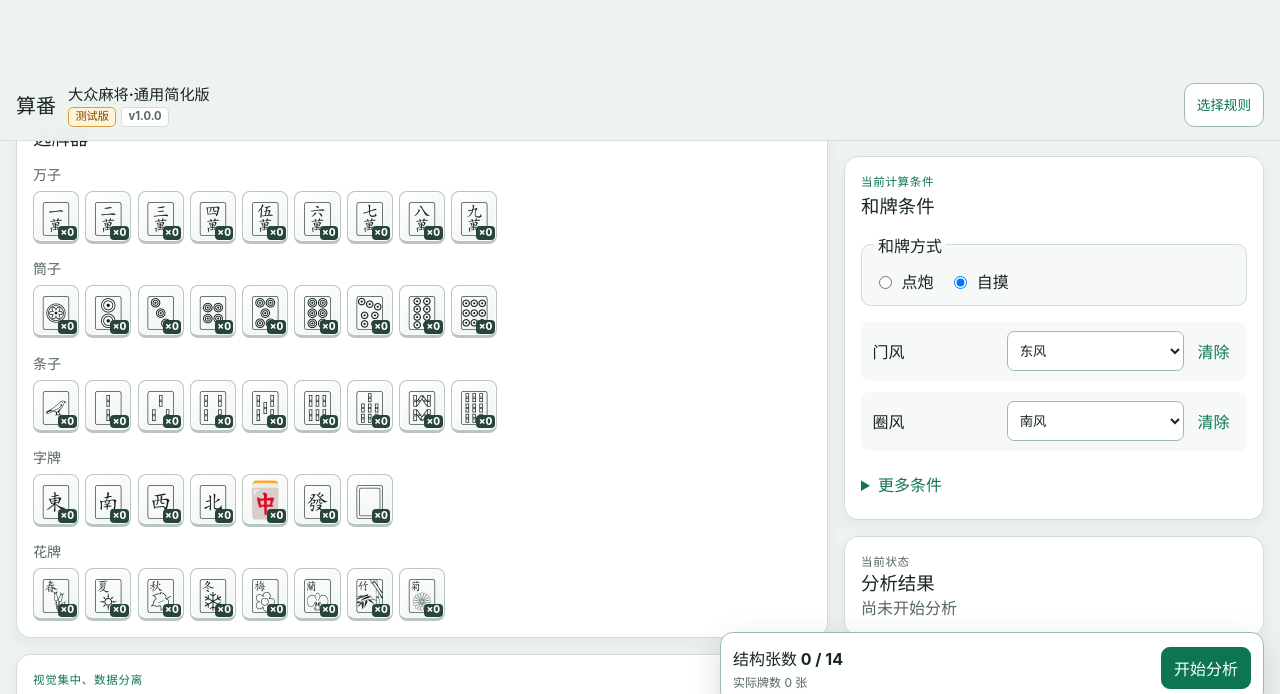
CalculatorPage Batch 13 interaction › renders RulePackage contexts, reports missing fields, and restores cleared mode data
Expected: the radio button labelled "自摸" is checked, [954,276,967,289]
Click the heading "更多条件" at (910, 485), box [878,475,942,495]
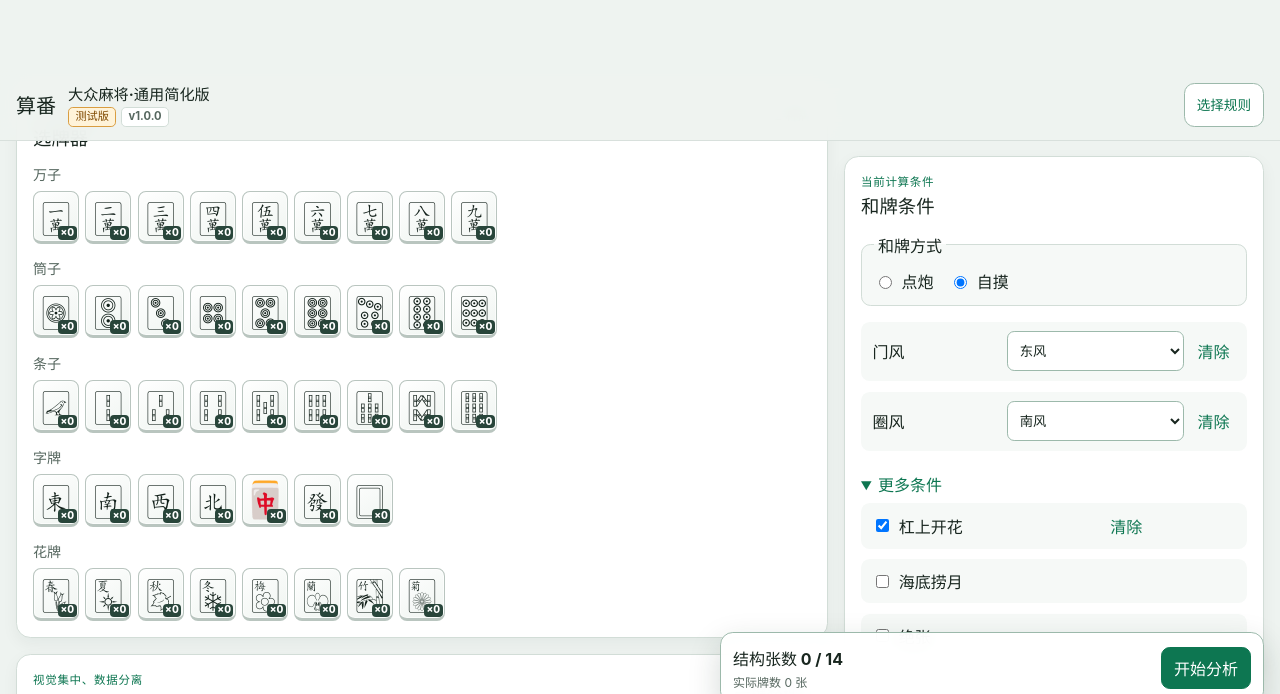
Expected: the checkbox labelled "抢杠和" is not shown
Expected: the checkbox labelled "杠上开花" is checked, [876,519,889,532]
Click the radio button labelled "点炮" at (886, 282), box [879,276,892,289]
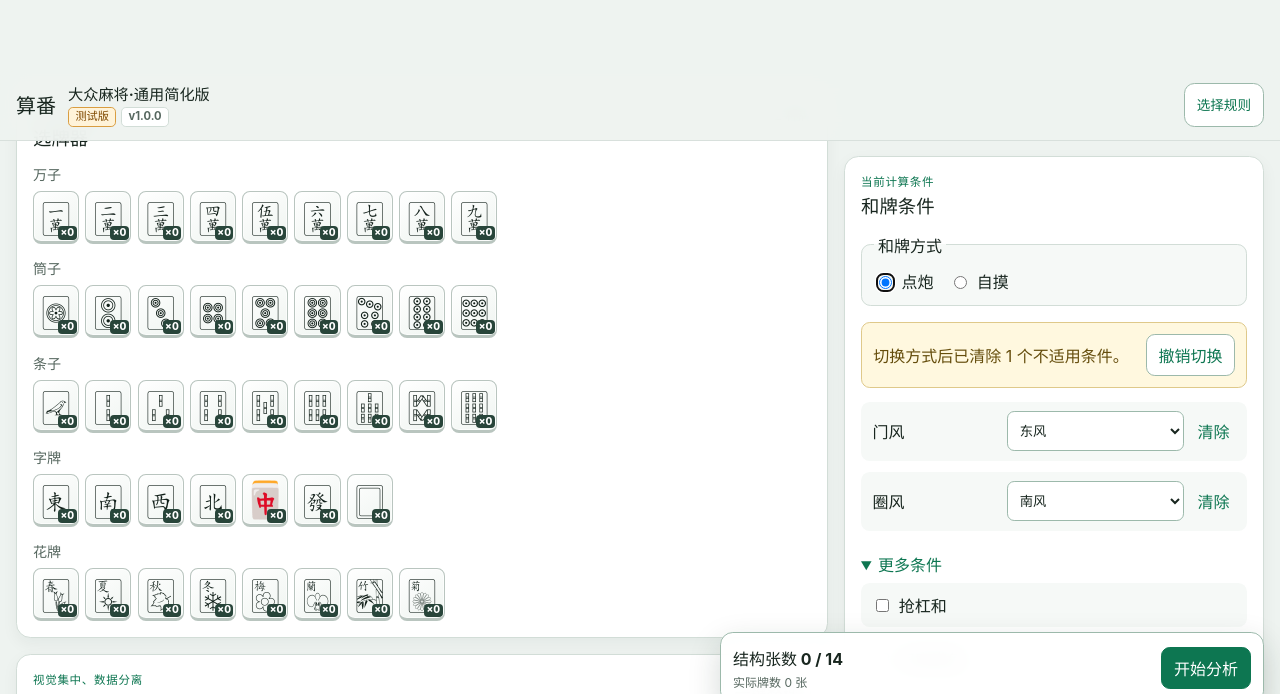
Expected: the checkbox labelled "抢杠和" is shown, [876,599,889,612]
Expected: the message shows "已清除 1 个不适用条件", [861,322,1247,388]
Click the button "撤销切换" at (1191, 355), box [1146,334,1235,376]
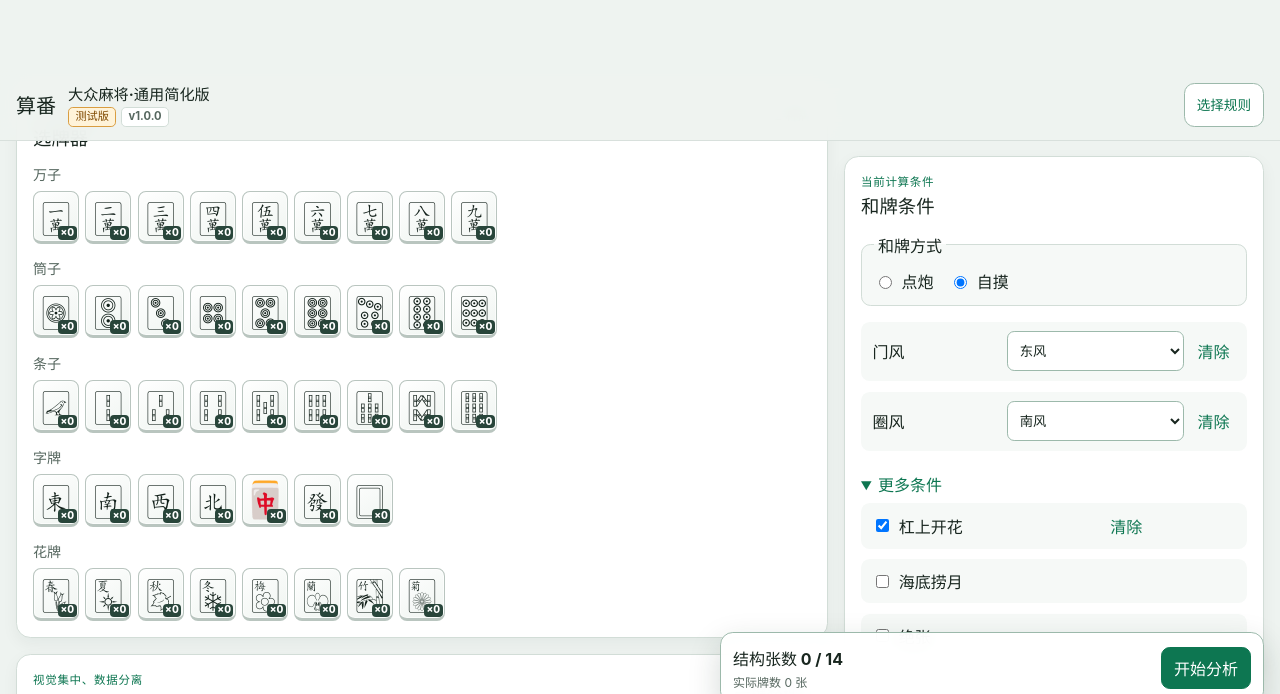
Expected: the radio button labelled "自摸" is checked, [954,276,967,289]
Expected: the checkbox labelled "杠上开花" is checked, [876,519,889,532]
